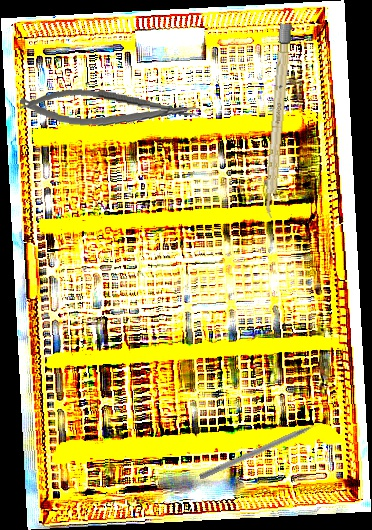Needle Holder: (18, 83, 201, 136)
Pusher: (198, 416, 332, 482)
Scalpel Handle: (263, 23, 292, 219)
